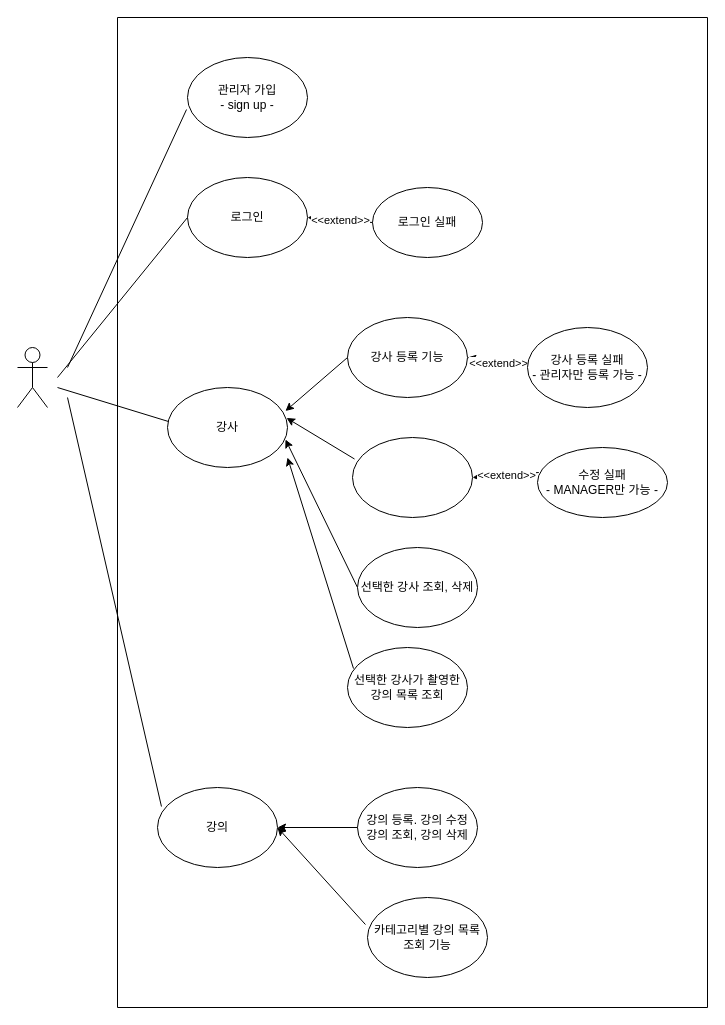
Image size: 725x1025. Some labels were removed from this diagram. Each missing label, with the centre of its shape:
Actor: (x=32, y=377)
강사 정보 수정 기능: (x=412, y=477)
